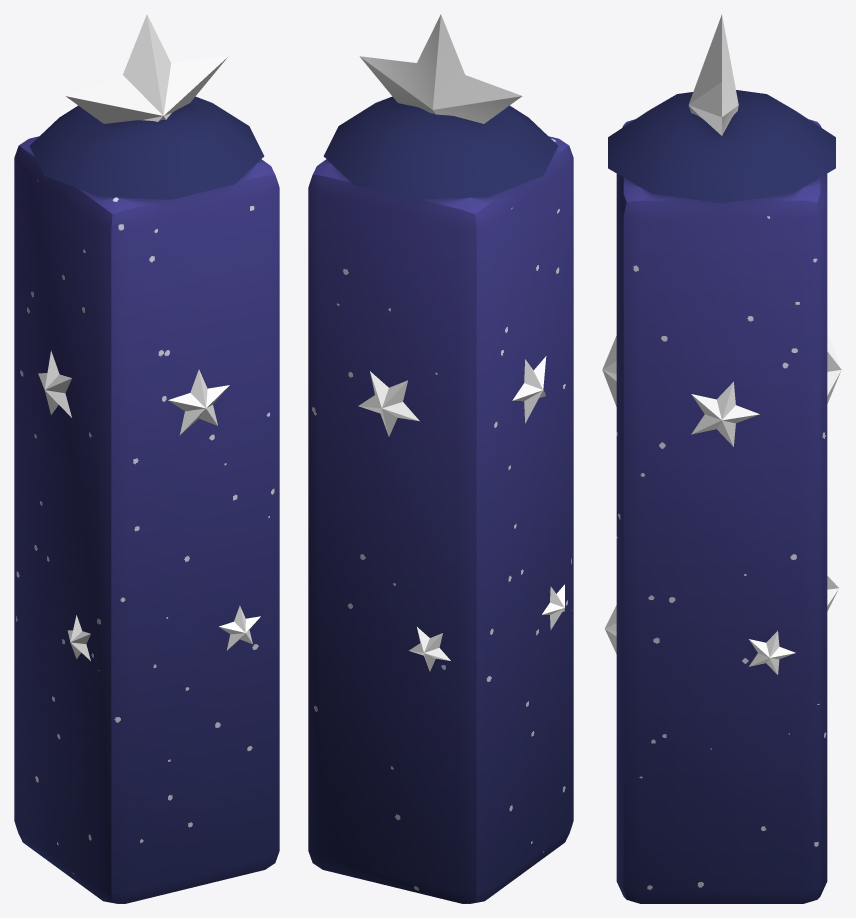
Rendered from fence_starlit_post.fbx.
The picture shows the model from 3 angles, left to right: view 1: azimuth 30°, elevation 25°; view 2: azimuth 150°, elevation 25°; view 3: azimuth 270°, elevation 25°; orthographic projection.
Visible parts, largest first — view 1: fence_starlit_post; view 2: fence_starlit_post; view 3: fence_starlit_post.
Boxes of the visible parts, x1=… form: fence_starlit_post: x1=14, y1=14, x2=279, y2=903; fence_starlit_post: x1=308, y1=14, x2=573, y2=903; fence_starlit_post: x1=602, y1=14, x2=841, y2=903.
Size of the model in its own units: 100 by 394 by 100.
Materials: 1 (1 with a texture image).
